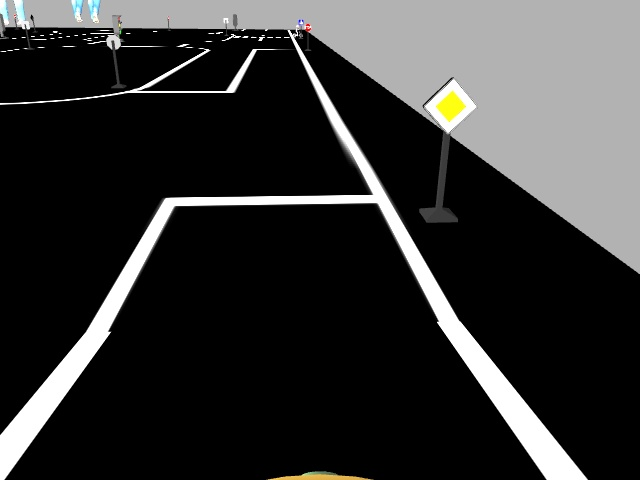Priority: (423, 75, 478, 134)
